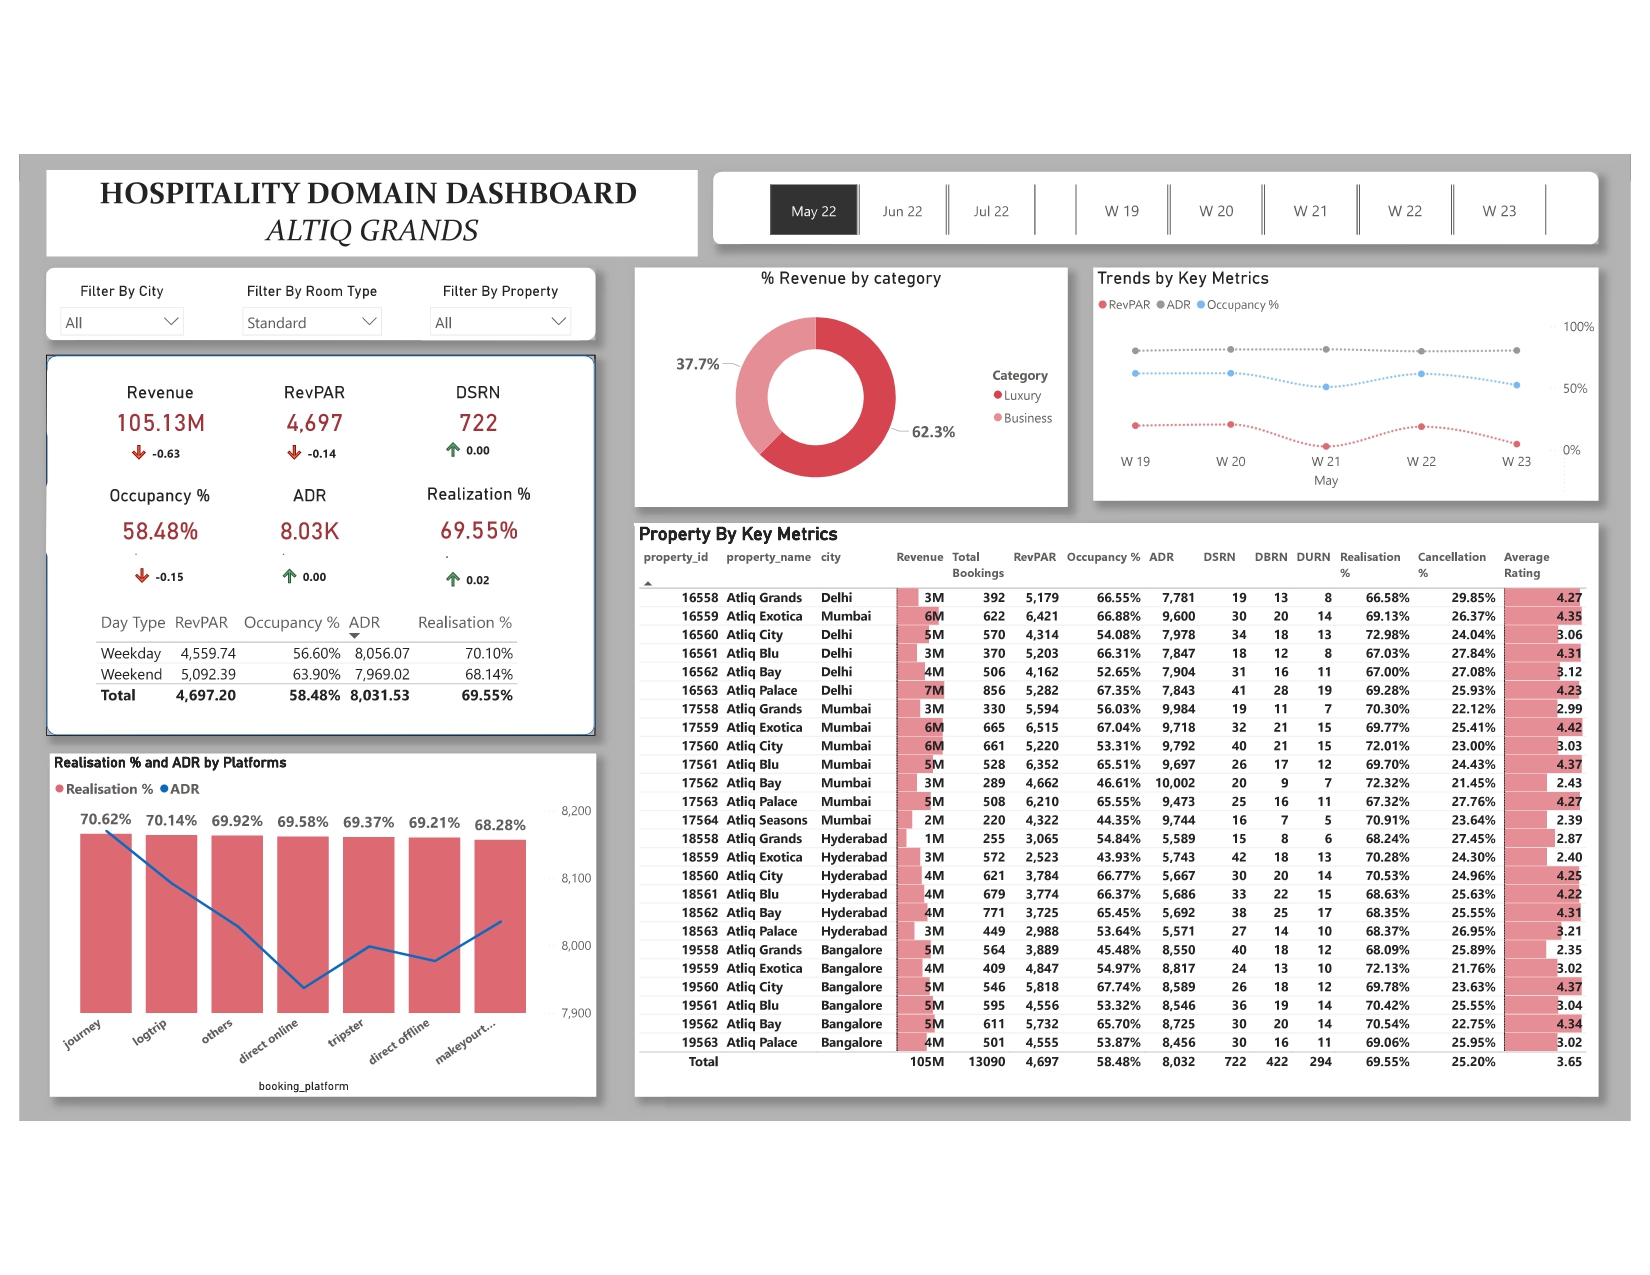

The page's visual inventory and layout, read from the dashboard file:
{"tool":"powerbi","page":{"name":"Page 1","canvas":[2000,1200],"ordinal":0},"visuals":[{"type":"shape","box":[33.4,249.3,681.6,472.5],"z":0},{"type":"shape","box":[861.3,21.9,1098.5,90.3],"z":1000},{"type":"shape","box":[33.4,403.4,665.6,100.5],"z":2000},{"type":"shape","box":[34,257.7,665.4,101.4],"z":3000},{"type":"shape","box":[33.4,140.8,681.6,90.5],"z":4000},{"type":"tableEx","title":"Property By Key Metrics","fields":{"Values":["dim_hotels.property_id","dim_hotels.property_name","dim_hotels.city","key_measures.Revenue","key_measures.Total Bookings","key_measures.RevPAR","key_measures.Occupancy %","key_measures.ADR","key_measures.DSRN","key_measures.DBRN","key_measures.DURN","key_measures.Realisation %"]},"box":[764.1,458.4,1196.4,711.8],"z":5000},{"type":"slicer","title":"Filter By City","fields":{"Values":["dim_hotels.city"]},"box":[41.4,158.8,172.9,68.4],"z":6000},{"type":"slicer","title":"Filter By Room Type","fields":{"Values":["dim_rooms.room_class"]},"box":[266.6,158.8,193,68.4],"z":7000},{"type":"slicer","title":"Filter By Week","fields":{"Values":["dim_date.week no"]},"box":[1285.2,31.1,634.1,75.6],"z":8000},{"type":"tableEx","fields":{"Values":["key_measures.Revenue WoW change %"]},"box":[127.9,318.9,92.5,68.4],"z":9000},{"type":"slicer","fields":{"Values":["dim_date.mmm yy"]},"box":[905.5,31.1,379.7,75.6],"z":10000},{"type":"donutChart","title":"% Revenue by category","fields":{"Category":["dim_hotels.category"],"Y":["key_measures.Revenue"]},"box":[764.1,140.8,536.9,297.6],"z":11000},{"type":"lineChart","title":"Trends by Key Metrics","fields":{"Category":["dim_date.mmm yy.Variation.Date Hierarchy.Month","dim_date.week no"],"Y":["key_measures.RevPAR","key_measures.ADR"],"Y2":["key_measures.Occupancy %"]},"box":[1333.1,140.8,627.3,289.5],"z":12000},{"type":"lineStackedColumnComboChart","title":"Realisation % and ADR by Platforms","fields":{"Category":["fact_bookings.booking_platform"],"Y":["key_measures.Realisation %"],"Y2":["key_measures.ADR"]},"box":[38.2,744,677.6,426.3],"z":13000},{"type":"tableEx","fields":{"Values":["dim_date.day_type","key_measures.RevPAR","key_measures.Occupancy %","key_measures.ADR","key_measures.Realisation %"]},"box":[89.7,561,559,134.7],"z":14000},{"type":"card","title":"Revenue","fields":{"Values":["key_measures.Revenue"]},"box":[107.8,282.7,134.7,72.4],"z":15000},{"type":"tableEx","fields":{"Values":["key_measures.Revpar WoW change %"]},"box":[320.9,318.9,94.5,68.4],"z":16000},{"type":"card","title":"RevPAR","fields":{"Values":["key_measures.RevPAR"]},"box":[280.7,282.7,170.9,72.4],"z":17000},{"type":"tableEx","fields":{"Values":["key_measures.DSRN WoW change %"]},"box":[518,314.9,94.5,72.4],"z":18000},{"type":"card","title":"DSRN","fields":{"Values":["key_measures.DSRN"]},"box":[479.8,282.7,179,72.4],"z":19000},{"type":"tableEx","fields":{"Values":["key_measures.Occupancy WoW change %"]},"box":[131.9,471.7,90.5,72.4],"z":20000},{"type":"card","title":"Occupancy %","fields":{"Values":["key_measures.Occupancy %"]},"box":[97.7,411.4,152.8,84.5],"z":21000},{"type":"tableEx","fields":{"Values":["key_measures.ADR WoW change %"]},"box":[314.9,471.7,94.5,72.4],"z":22000},{"type":"card","title":"ADR","fields":{"Values":["key_measures.ADR"]},"box":[274.7,411.4,170.9,84.5],"z":23000},{"type":"tableEx","fields":{"Values":["key_measures.Realisation WoW change %"]},"box":[518,475.7,94.5,68.4],"z":24000},{"type":"card","title":"Realization %","fields":{"Values":["key_measures.Realisation %"]},"box":[475.7,409.4,189,86.5],"z":25000},{"type":"slicer","title":"Filter By Property","fields":{"Values":["dim_hotels.property_name"]},"box":[499.9,158.8,195,72.4],"z":26000},{"type":"textbox","box":[34.2,20.1,808.3,106.6],"z":27000}]}

Visuals, with their boxes on the page's 2000x1200 design canvas (x1, y1, x2, y2). These are canvas units, not pixel positions in the 1650x1275 screenshot, which may show the page scaled, cropped or inside an application window:
shape: <region>33, 249, 715, 722</region>
shape: <region>861, 22, 1960, 112</region>
shape: <region>33, 403, 699, 504</region>
shape: <region>34, 258, 699, 359</region>
shape: <region>33, 141, 715, 231</region>
"Property By Key Metrics" tableEx: <region>764, 458, 1960, 1170</region>
"Filter By City" slicer: <region>41, 159, 214, 227</region>
"Filter By Room Type" slicer: <region>267, 159, 460, 227</region>
"Filter By Week" slicer: <region>1285, 31, 1919, 107</region>
tableEx - key_measures.Revenue WoW change %: <region>128, 319, 220, 387</region>
slicer - dim_date.mmm yy: <region>906, 31, 1285, 107</region>
"% Revenue by category" donutChart: <region>764, 141, 1301, 438</region>
"Trends by Key Metrics" lineChart: <region>1333, 141, 1960, 430</region>
"Realisation % and ADR by Platforms" lineStackedColumnComboChart: <region>38, 744, 716, 1170</region>
tableEx - dim_date.day_type x key_measures.RevPAR: <region>90, 561, 649, 696</region>
"Revenue" card: <region>108, 283, 242, 355</region>
tableEx - key_measures.Revpar WoW change %: <region>321, 319, 415, 387</region>
"RevPAR" card: <region>281, 283, 452, 355</region>
tableEx - key_measures.DSRN WoW change %: <region>518, 315, 612, 387</region>
"DSRN" card: <region>480, 283, 659, 355</region>
tableEx - key_measures.Occupancy WoW change %: <region>132, 472, 222, 544</region>
"Occupancy %" card: <region>98, 411, 250, 496</region>
tableEx - key_measures.ADR WoW change %: <region>315, 472, 409, 544</region>
"ADR" card: <region>275, 411, 446, 496</region>
tableEx - key_measures.Realisation WoW change %: <region>518, 476, 612, 544</region>
"Realization %" card: <region>476, 409, 665, 496</region>
"Filter By Property" slicer: <region>500, 159, 695, 231</region>
textbox: <region>34, 20, 842, 127</region>
